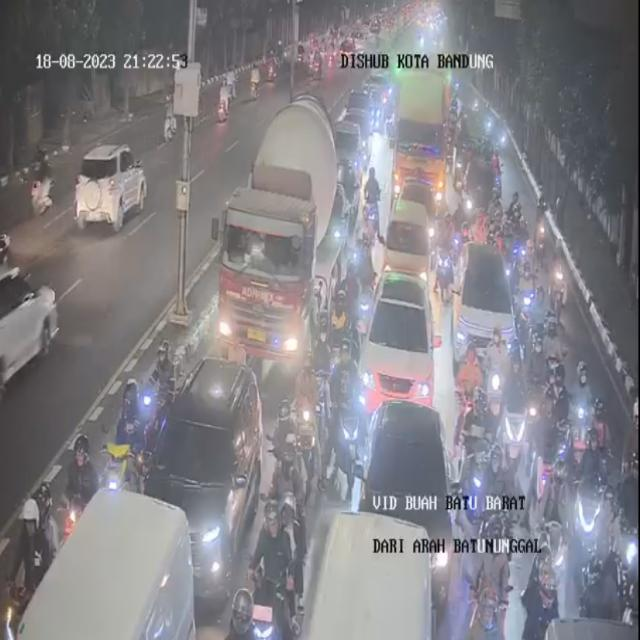bunch of motorcycle: (459, 369, 638, 618)
cars: (145, 357, 263, 610), (16, 489, 195, 640), (306, 512, 432, 639), (361, 402, 452, 538), (360, 268, 442, 412), (457, 244, 512, 366), (390, 200, 429, 277)
motorcycle: (324, 341, 369, 491), (10, 495, 58, 612), (256, 498, 295, 640), (112, 380, 150, 502), (269, 404, 302, 528), (293, 354, 320, 490), (146, 343, 179, 435), (64, 444, 95, 535), (348, 258, 372, 358), (328, 291, 352, 388), (361, 167, 386, 250)
truck: (218, 94, 338, 361), (394, 72, 447, 202)
